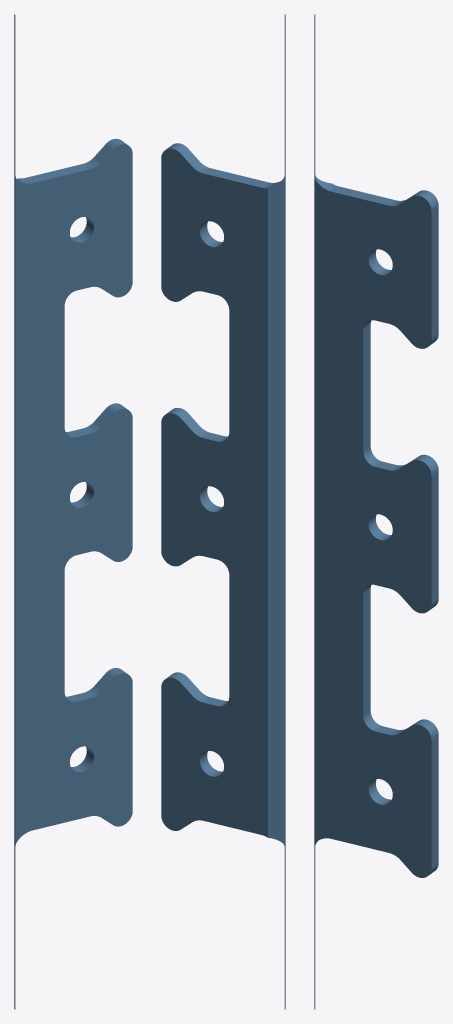
The model's file is narrow-1-bottom-flap.glb.
The picture shows the model from 3 angles, left to right: view 1: azimuth 30°, elevation 25°; view 2: azimuth 150°, elevation 25°; view 3: azimuth 330°, elevation 25°; orthographic projection.
Visible parts, largest first — view 1: narrow-1-bottom-flap; view 2: narrow-1-bottom-flap; view 3: narrow-1-bottom-flap.
Part boxes in pixels (<box>): narrow-1-bottom-flap: <box>14,14,132,1009</box>; narrow-1-bottom-flap: <box>161,14,285,1009</box>; narrow-1-bottom-flap: <box>314,14,438,1009</box>.
Size of the model in its own units: 112 by 905 by 12.
